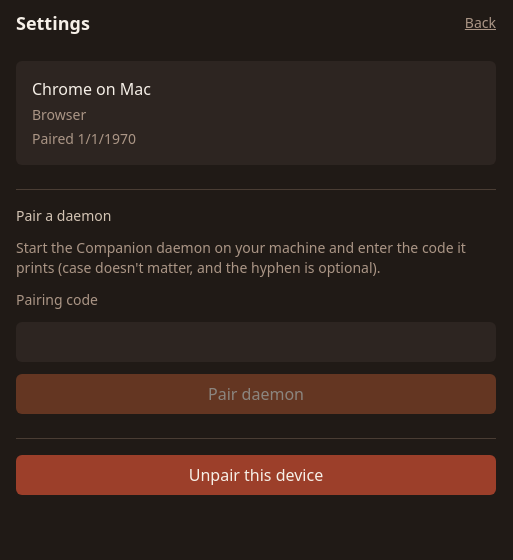
Test: SettingsScreen › cancelling the confirm step does not unpair
The width and height of the screenshot is (513, 560).
Check: the text "Chrome on Mac" is shown, box x1=32 y1=78 x2=151 y2=100
Step 1. Click the button "Unpair this device" → (256, 475), box x1=16 y1=455 x2=496 y2=495
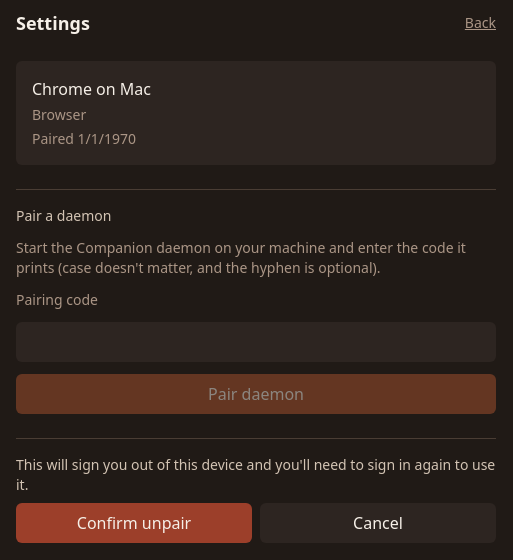
Step 2. Click the button "Cancel" → (378, 523), box x1=260 y1=503 x2=496 y2=543
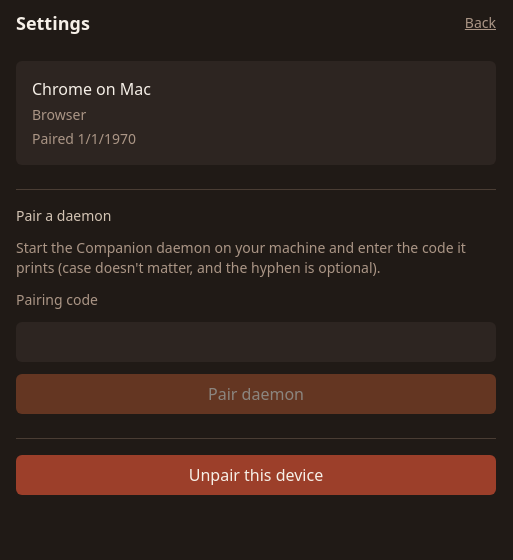
Check: the button "Unpair this device" is shown, box x1=16 y1=455 x2=496 y2=495
